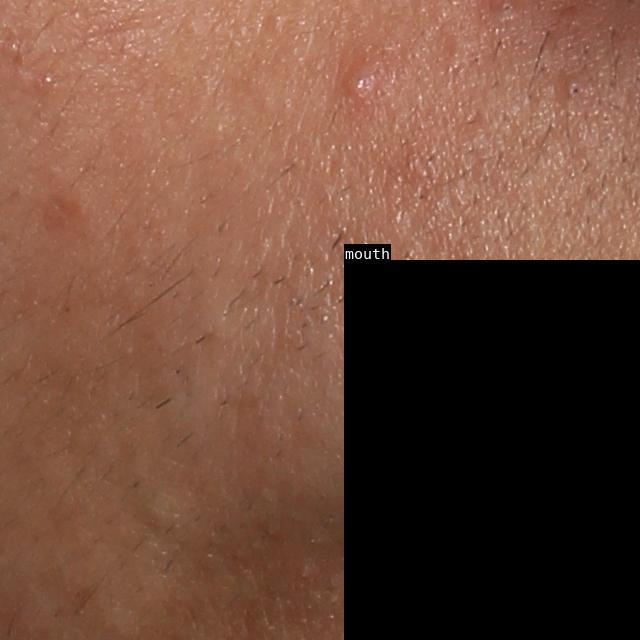comedo: (564, 78, 584, 101)
